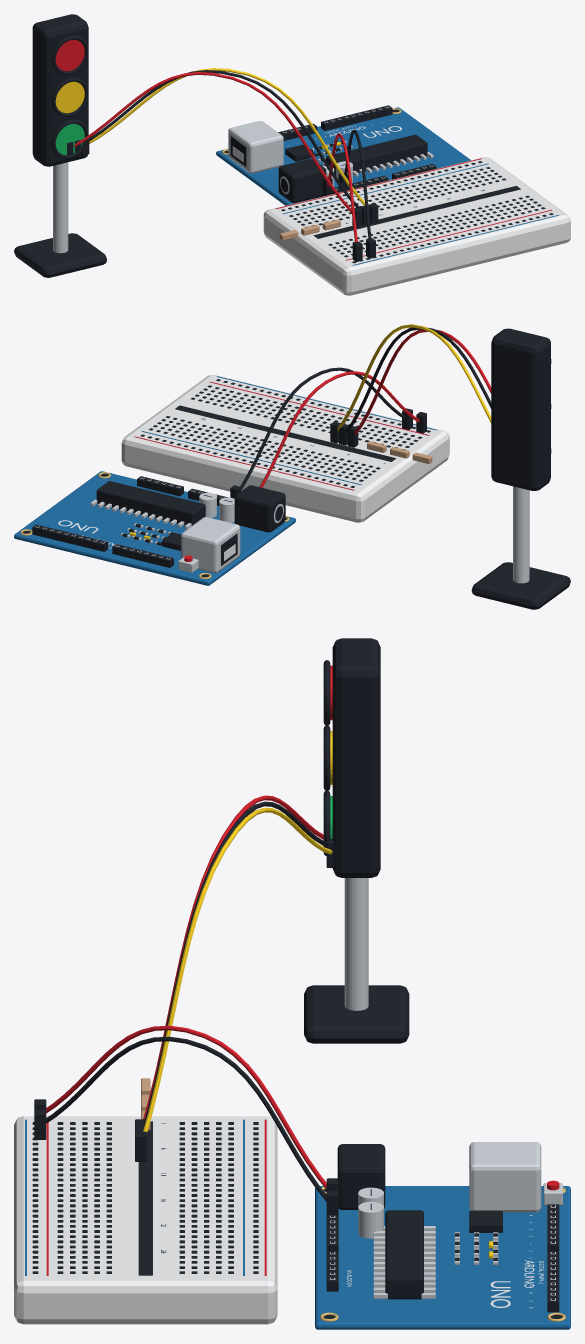
Rendered from led-traffic-light.glb.
3 views of the same model, one above another, from view 1: azimuth 30°, elevation 25°; view 2: azimuth 150°, elevation 25°; view 3: azimuth 270°, elevation 25° (orthographic). The views are drawn at different scales.
Parts seen in each view (by area): view 1: breadboard.025 • white, Project structure • black, microcontroller.025 • black, microcontroller.025 • blue, breadboard.025 • black, microcontroller.025 • silver, Jumper connections • black, Jumper connections • red, Project structure • silver, Jumper connections • yellow, Project structure • red, Project structure • yellow (+5 smaller); view 2: breadboard.025 • white, Project structure • black, microcontroller.025 • blue, microcontroller.025 • black, breadboard.025 • black, microcontroller.025 • silver, Jumper connections • black, Jumper connections • red, Project structure • silver, Jumper connections • yellow, breadboard.025 • red, breadboard.025 • blue (+1 smaller); view 3: breadboard.025 • white, microcontroller.025 • blue, Project structure • black, microcontroller.025 • black, breadboard.025 • black, microcontroller.025 • silver, Jumper connections • black, Jumper connections • red, Project structure • silver, Jumper connections • yellow, breadboard.025 • red.
Boxes of the visible parts, x1=… form: breadboard.025 • white: x1=263, y1=157, x2=570, y2=295; Project structure • black: x1=14, y1=14, x2=106, y2=277; microcontroller.025 • black: x1=224, y1=105, x2=436, y2=203; microcontroller.025 • blue: x1=216, y1=107, x2=470, y2=205; breadboard.025 • black: x1=281, y1=161, x2=553, y2=263; microcontroller.025 • silver: x1=228, y1=106, x2=433, y2=194; Jumper connections • black: x1=67, y1=70, x2=378, y2=261; Jumper connections • red: x1=74, y1=72, x2=357, y2=242; Project structure • silver: x1=53, y1=162, x2=68, y2=253; Jumper connections • yellow: x1=89, y1=68, x2=368, y2=206; Project structure • red: x1=55, y1=39, x2=84, y2=71; Project structure • yellow: x1=55, y1=81, x2=84, y2=113; breadboard.025 • white: x1=121, y1=375, x2=449, y2=522; Project structure • black: x1=471, y1=328, x2=570, y2=609; microcontroller.025 • blue: x1=14, y1=471, x2=295, y2=585; microcontroller.025 • black: x1=22, y1=473, x2=287, y2=577; breadboard.025 • black: x1=140, y1=379, x2=430, y2=487; microcontroller.025 • silver: x1=35, y1=477, x2=283, y2=572; Jumper connections • black: x1=230, y1=327, x2=491, y2=498; Jumper connections • red: x1=259, y1=329, x2=491, y2=487; Project structure • silver: x1=513, y1=486, x2=529, y2=583; Jumper connections • yellow: x1=337, y1=324, x2=491, y2=430; breadboard.025 • red: x1=134, y1=381, x2=429, y2=490; breadboard.025 • blue: x1=142, y1=376, x2=436, y2=485; breadboard.025 • white: x1=14, y1=1116, x2=277, y2=1324; microcontroller.025 • blue: x1=315, y1=1186, x2=570, y2=1329; Project structure • black: x1=304, y1=638, x2=409, y2=1043; microcontroller.025 • black: x1=323, y1=1144, x2=562, y2=1318; breadboard.025 • black: x1=32, y1=1121, x2=258, y2=1275; microcontroller.025 • silver: x1=330, y1=1142, x2=562, y2=1300; Jumper connections • black: x1=34, y1=801, x2=338, y2=1215; Jumper connections • red: x1=46, y1=795, x2=326, y2=1189; Project structure • silver: x1=344, y1=878, x2=368, y2=1010; Jumper connections • yellow: x1=143, y1=807, x2=332, y2=1132; breadboard.025 • red: x1=46, y1=1119, x2=266, y2=1275.
Bounding box in the file's own units: 164 × 85.5 × 116.
